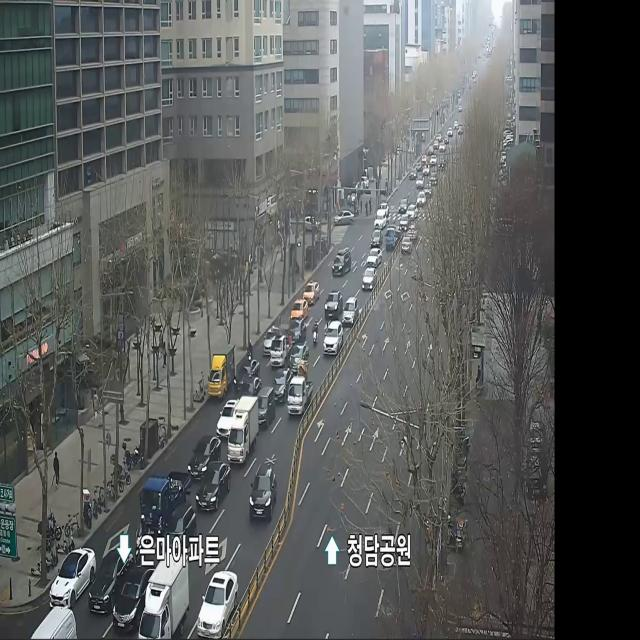bus: (312, 314, 319, 350), (246, 334, 254, 365)
motorcycle: (47, 529, 99, 613), (86, 537, 136, 618), (195, 563, 242, 640), (192, 451, 236, 521), (245, 454, 284, 527), (184, 422, 222, 483), (321, 318, 346, 360), (328, 242, 354, 280), (323, 282, 345, 323), (342, 290, 361, 334), (360, 266, 378, 293), (148, 533, 154, 537)
truck: (138, 547, 194, 640), (136, 463, 191, 542), (225, 392, 261, 468), (202, 341, 239, 401), (286, 371, 314, 425), (269, 330, 295, 372), (349, 302, 367, 321)
